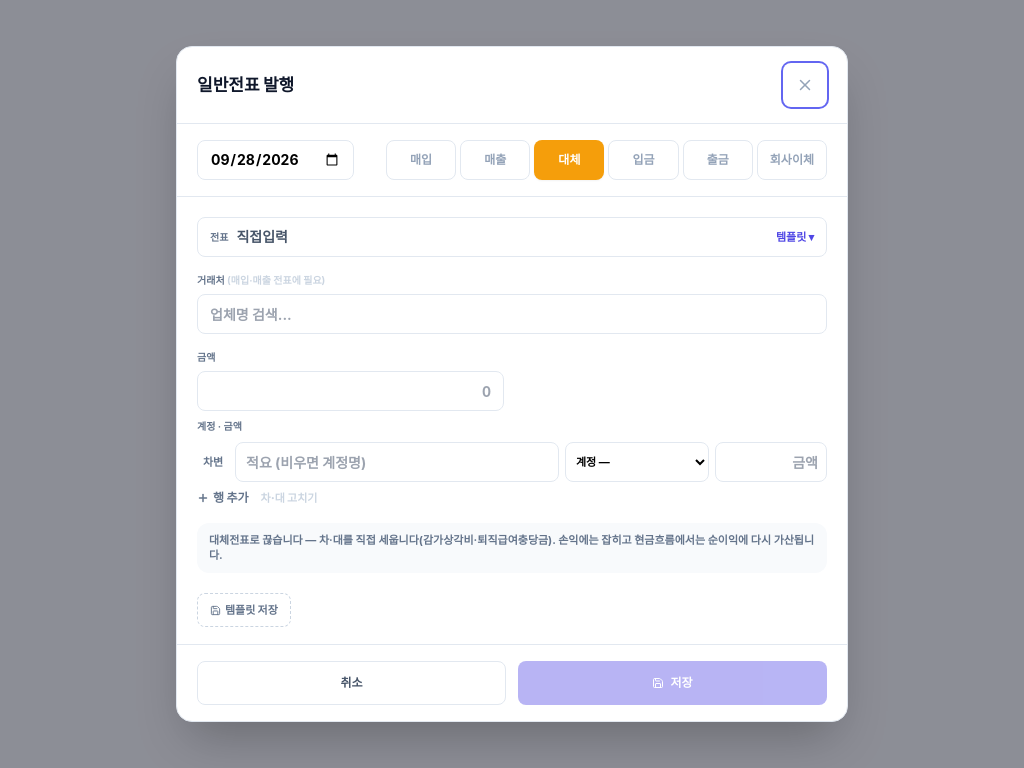
Test case: 모든 갈래에서 전체 템플릿 탐색 › 매입 선택도 모든 유효 그룹과 템플릿을 제공한다
Click the button "매입" at [421, 160], box [386,140,456,180]
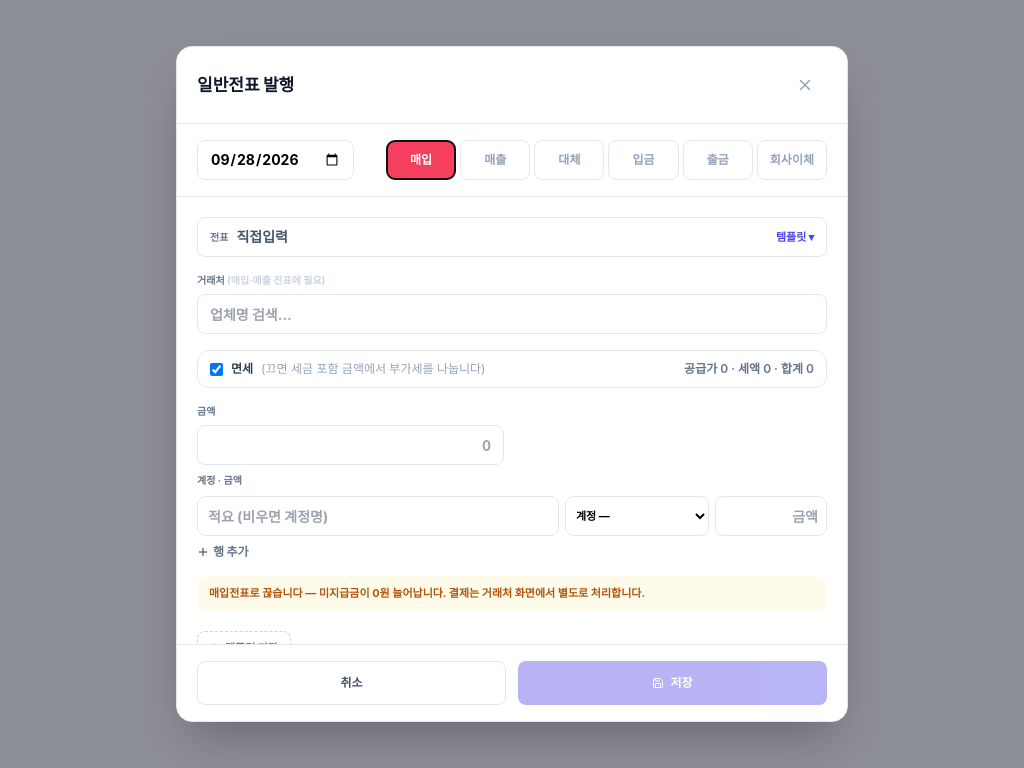
Click the button "전표 직접입력 템플릿 ▾" at [262, 237], box [197,217,827,257]
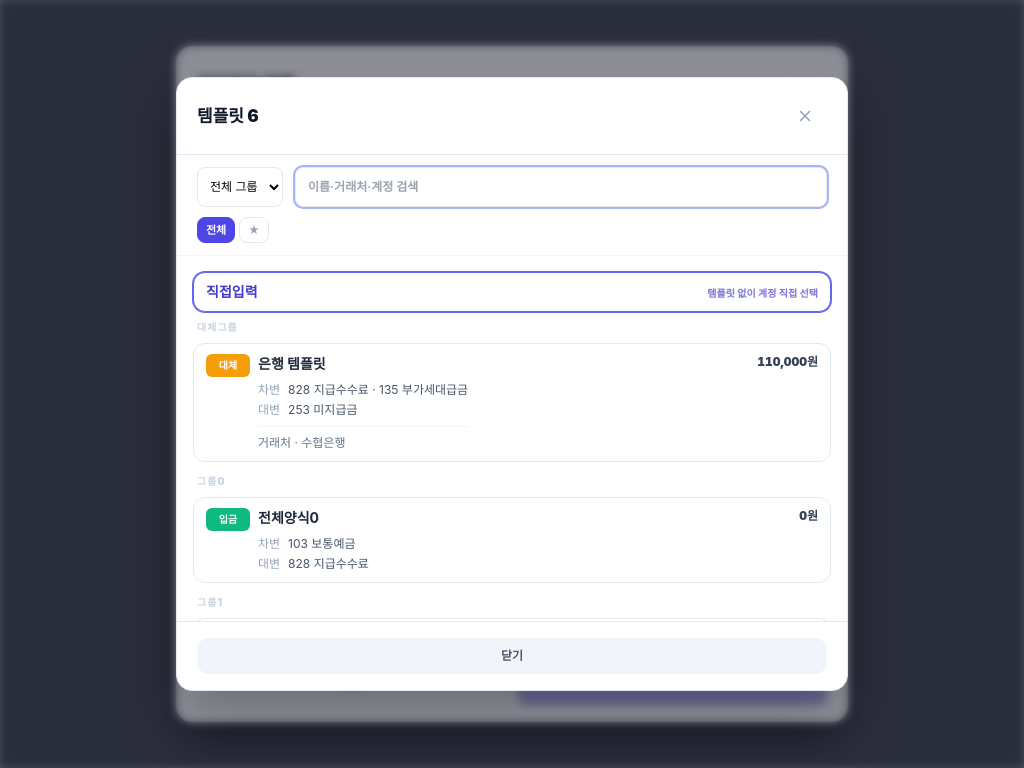
Expected: the button "은행 템플릿" is shown, [193,343,831,462]
